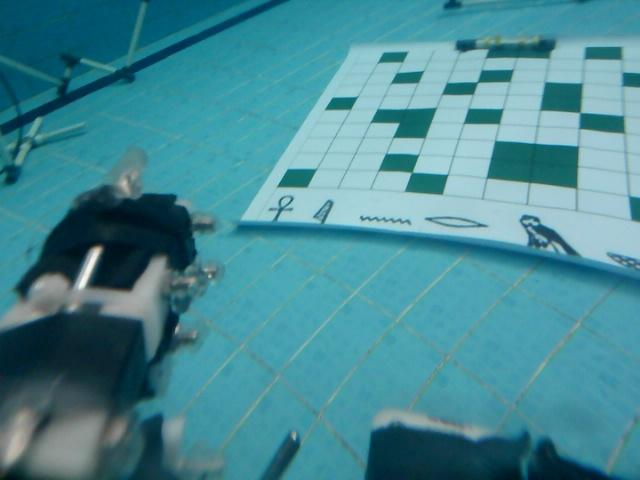Ankh: (267, 190, 299, 225)
Mouth: (421, 210, 488, 234)
Owl: (515, 209, 583, 262)
Reed: (309, 196, 335, 229)
Water: (356, 205, 416, 230)
